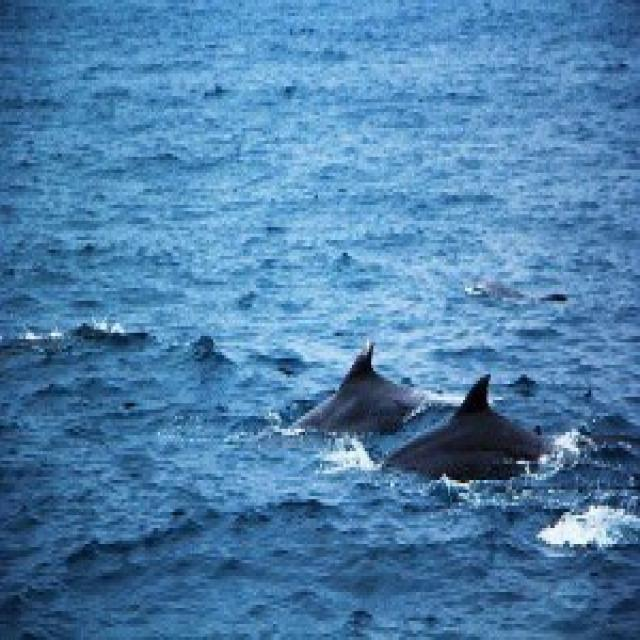Dolphin: (397, 374, 573, 510), (288, 346, 408, 434)
